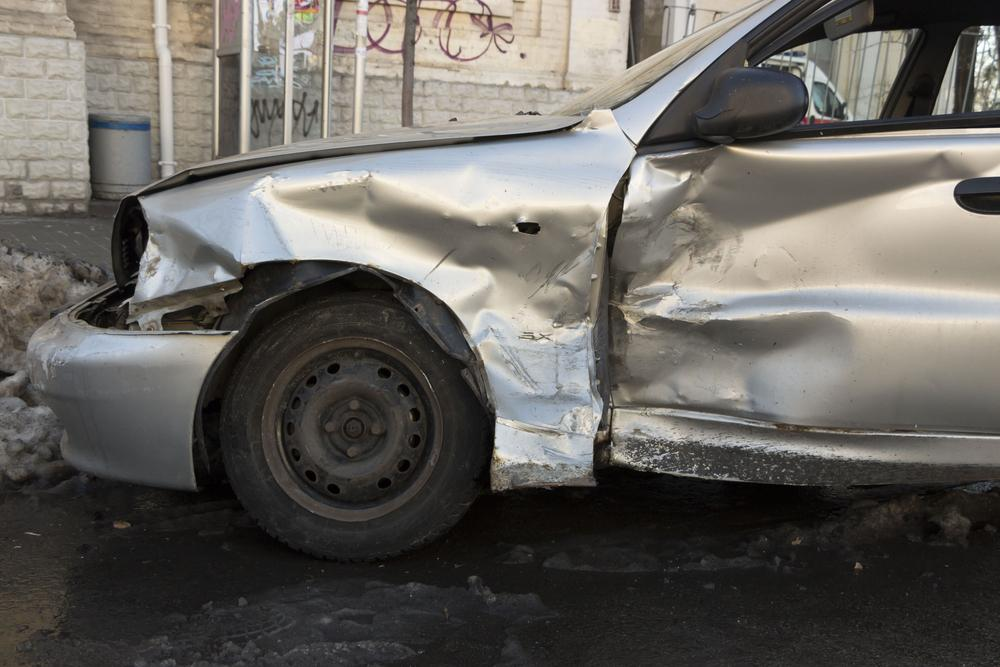dent: (135, 173, 605, 483), (608, 147, 977, 428)
